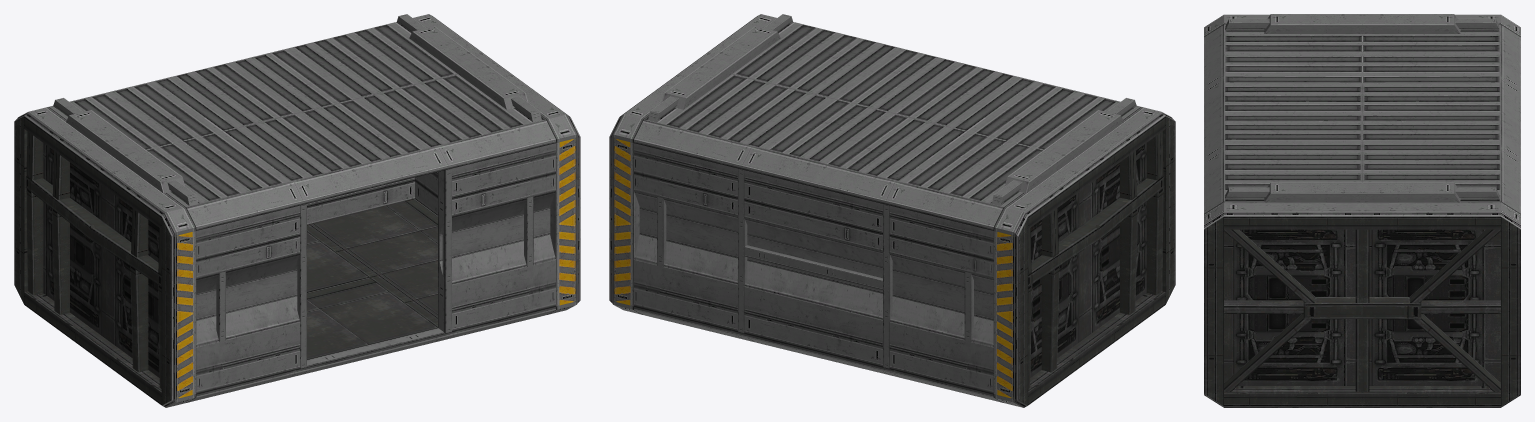
File: Neon_CrateOpenC1.FBX
3 renders of one model, left to right at view 1: azimuth 30°, elevation 25°; view 2: azimuth 150°, elevation 25°; view 3: azimuth 270°, elevation 25°, orthographic.
Parts seen in each view (by area): view 1: Neon_CrateOpenC1; view 2: Neon_CrateOpenC1; view 3: Neon_CrateOpenC1.
Boxes of the visible parts, box(x1,y1,x2,y2) form: Neon_CrateOpenC1: box(14, 14, 580, 407); Neon_CrateOpenC1: box(609, 14, 1175, 407); Neon_CrateOpenC1: box(1204, 14, 1520, 407).
Bounding box in the file's own units: 5.99 × 2.9 × 3.96.
